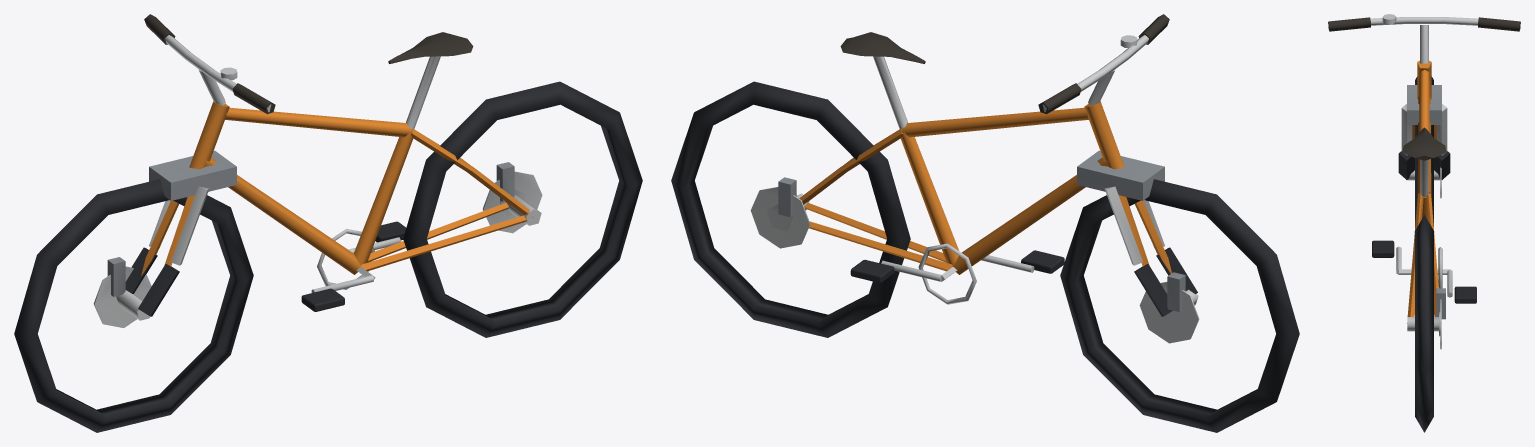
Rendered from mountainBike.far.glb.
3 views of the same model, side by side, from view 1: azimuth 30°, elevation 25°; view 2: azimuth 150°, elevation 25°; view 3: azimuth 270°, elevation 25° (orthographic). The views are drawn at different scales.
Parts seen in each view (by area): view 1: mountainBike; view 2: mountainBike; view 3: mountainBike.
Boxes of the visible parts, left/top/right/bottom form: mountainBike: left=14, top=14, right=642, bottom=432; mountainBike: left=671, top=14, right=1299, bottom=432; mountainBike: left=1328, top=14, right=1520, bottom=432.
Size of the model in its own units: 1.81 by 0.9662 by 0.6053.
